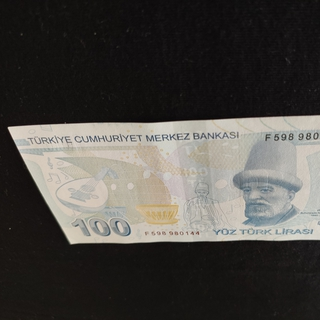100TLBack: (7, 113, 320, 245)
